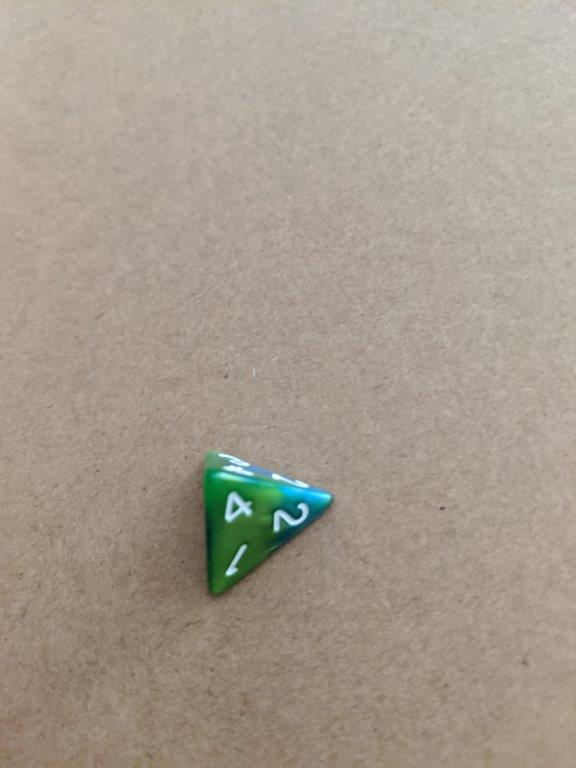d4-4: (195, 444, 336, 599)
